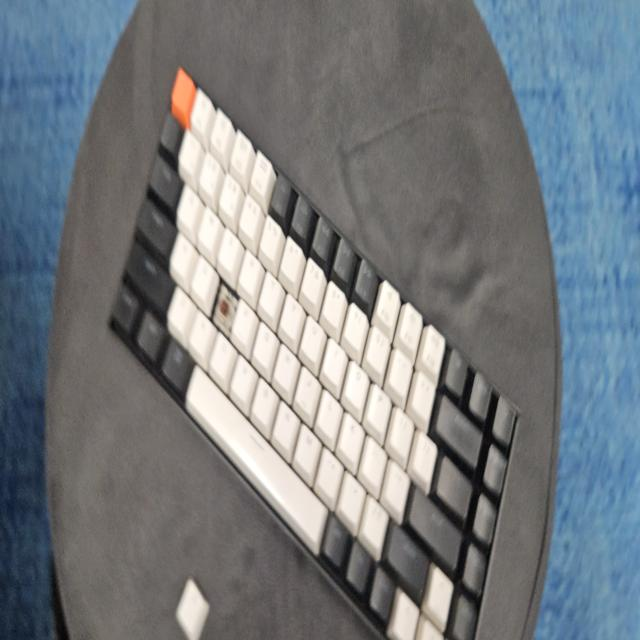C: (219, 295, 230, 323)
